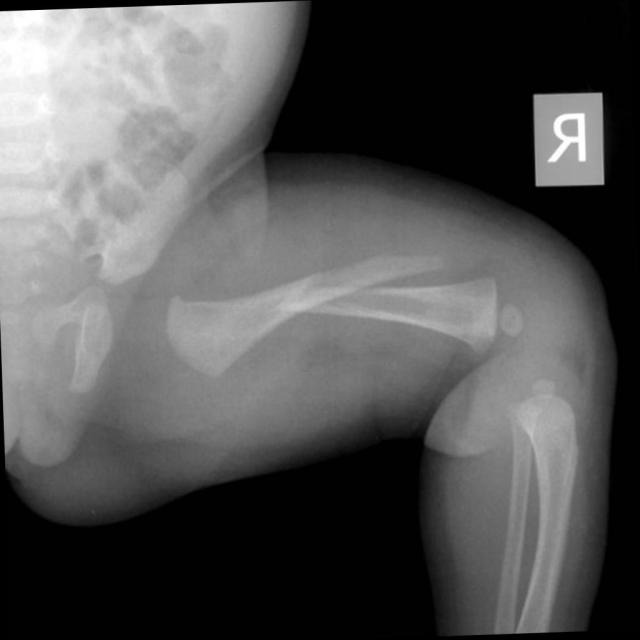Spiral: (272, 242, 472, 330)
